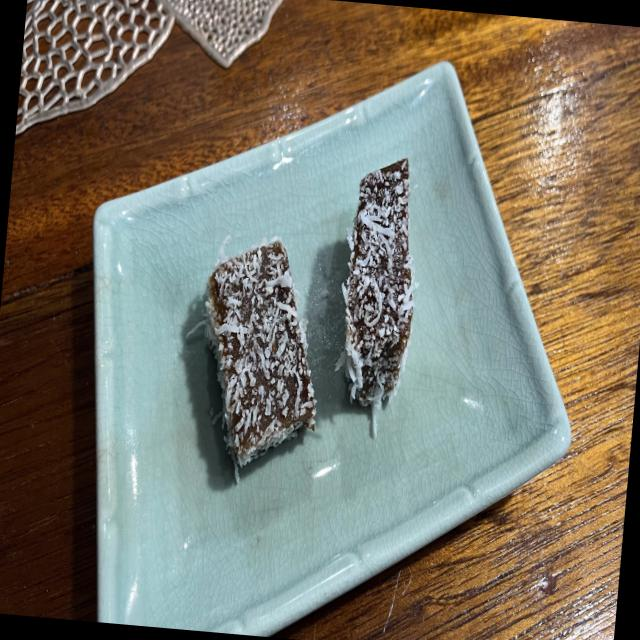kaswi: (205, 238, 315, 480), (336, 158, 415, 436)
